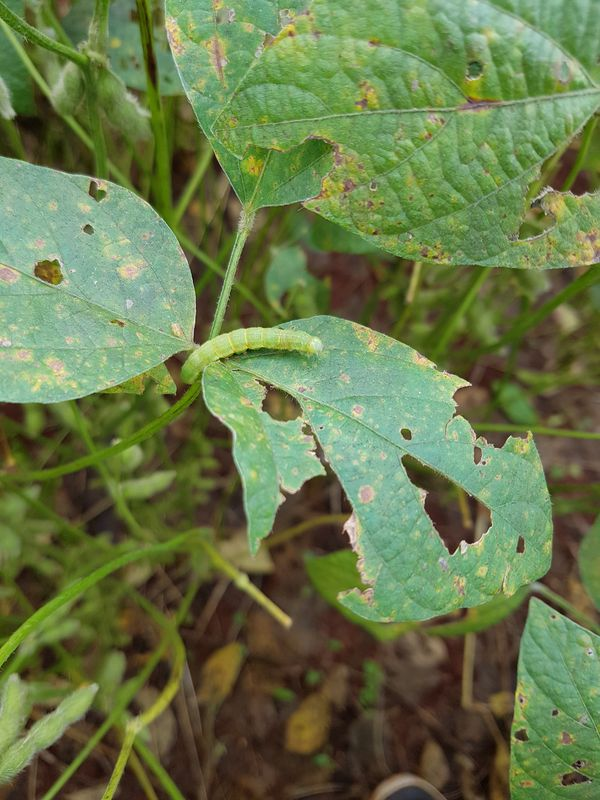Anticarsia_gemmatalis: (170, 306, 330, 413)
